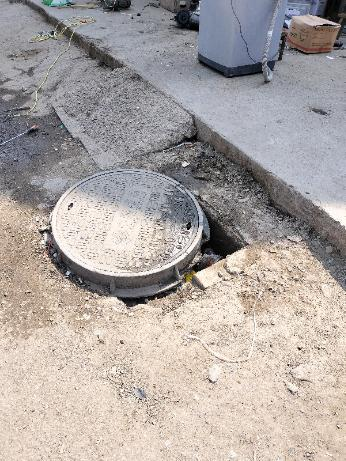wellcover: (48, 169, 245, 309)
